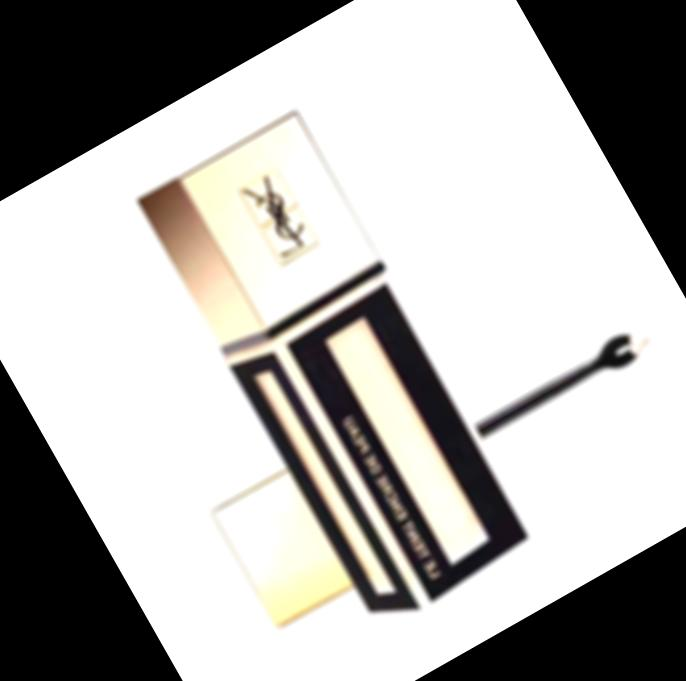cosmetic: (132, 111, 541, 637)
